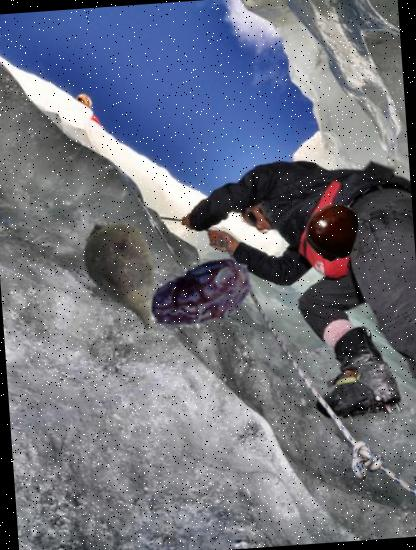Beetroot: (55, 206, 193, 344)
Cherry: (302, 200, 363, 261)
Dates: (145, 238, 260, 353)
